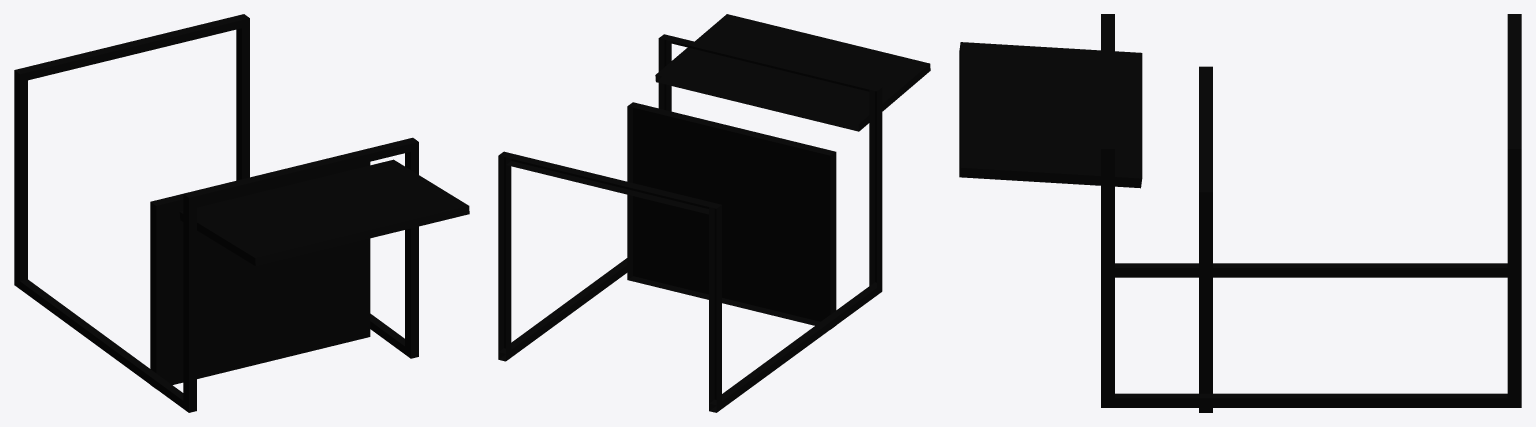
File: chairblack82_wtf.obj
3 views of the same model, side by side, from view 1: azimuth 30°, elevation 25°; view 2: azimuth 150°, elevation 25°; view 3: azimuth 270°, elevation 25° (orthographic). The views are drawn at different scales.
Parts seen in each view (by area): view 1: group3, group2; view 2: group3, group2; view 3: group2, group3.
Boxes of the visible parts, box(x1,y1,x2,y2) form: group3: box(156, 159, 468, 384); group2: box(14, 14, 469, 412); group3: box(633, 14, 929, 321); group2: box(498, 34, 930, 412); group2: box(959, 14, 1521, 412); group3: box(960, 42, 1142, 178).
Size of the model in its own units: 375 by 348 by 660.
